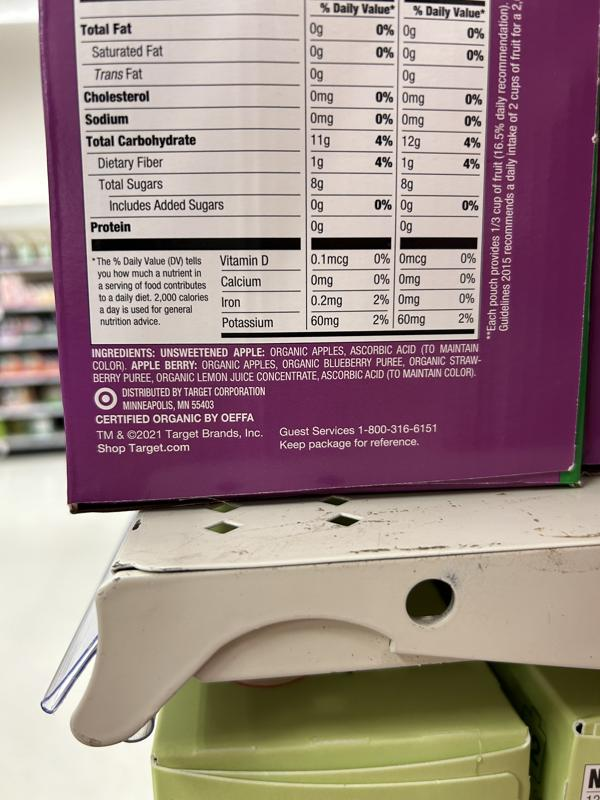ingredients: (89, 342, 484, 385)
